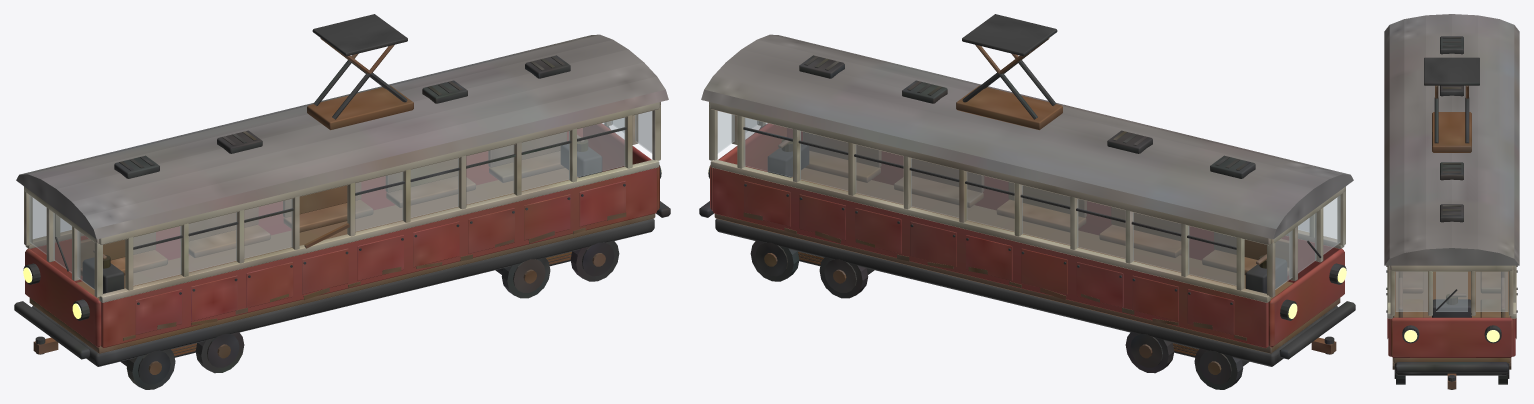
The model's file is V08_old_city_tram.glb.
The picture shows the model from 3 angles, left to right: view 1: azimuth 30°, elevation 25°; view 2: azimuth 150°, elevation 25°; view 3: azimuth 270°, elevation 25°; orthographic projection. The views are drawn at different scales.
Parts seen in each view (by area): view 1: Heavy underframe; view 2: Heavy underframe; view 3: Heavy underframe.
Boxes of the visible parts, bbox=[...] form: Heavy underframe: bbox=[14, 14, 670, 389]; Heavy underframe: bbox=[699, 14, 1355, 389]; Heavy underframe: bbox=[1384, 14, 1519, 389].
Size of the model in its own units: 12 by 5.12 by 2.74.
Materials: 10 (8 with a texture image).
